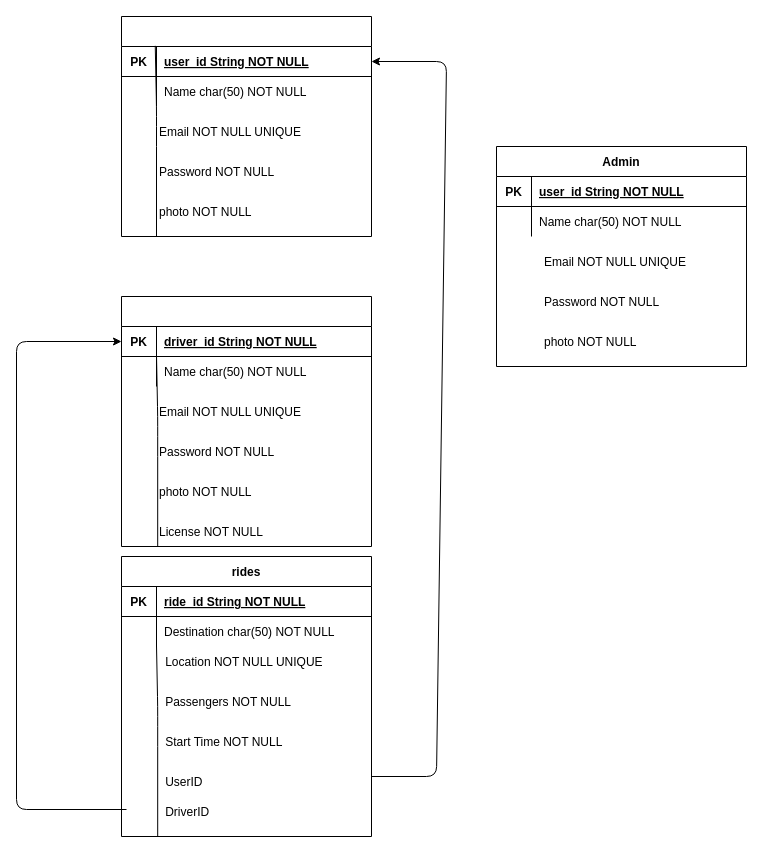
Some shapes in this 773 by 853 pixel diagram are drawn without their labels. The box of each missing label's shape, as (x1, y1, x2, y2) in pixels:
drivers: (120, 296, 372, 546)
passengers: (120, 16, 372, 236)
